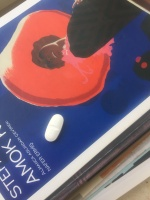Centik Buskopan: (44, 113, 65, 143)
